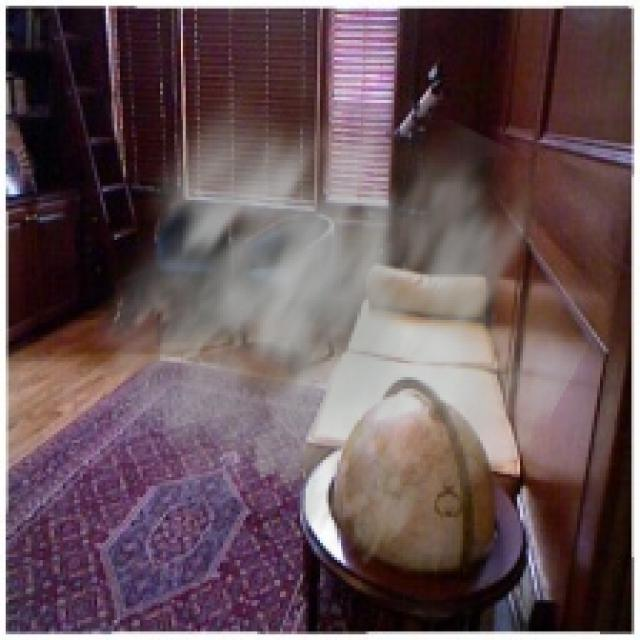smoke: (69, 17, 612, 569)
